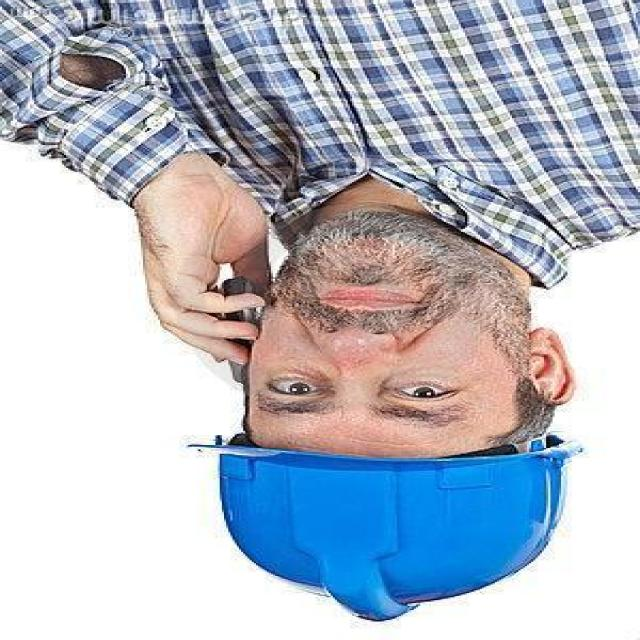helmet: (173, 431, 598, 622)
